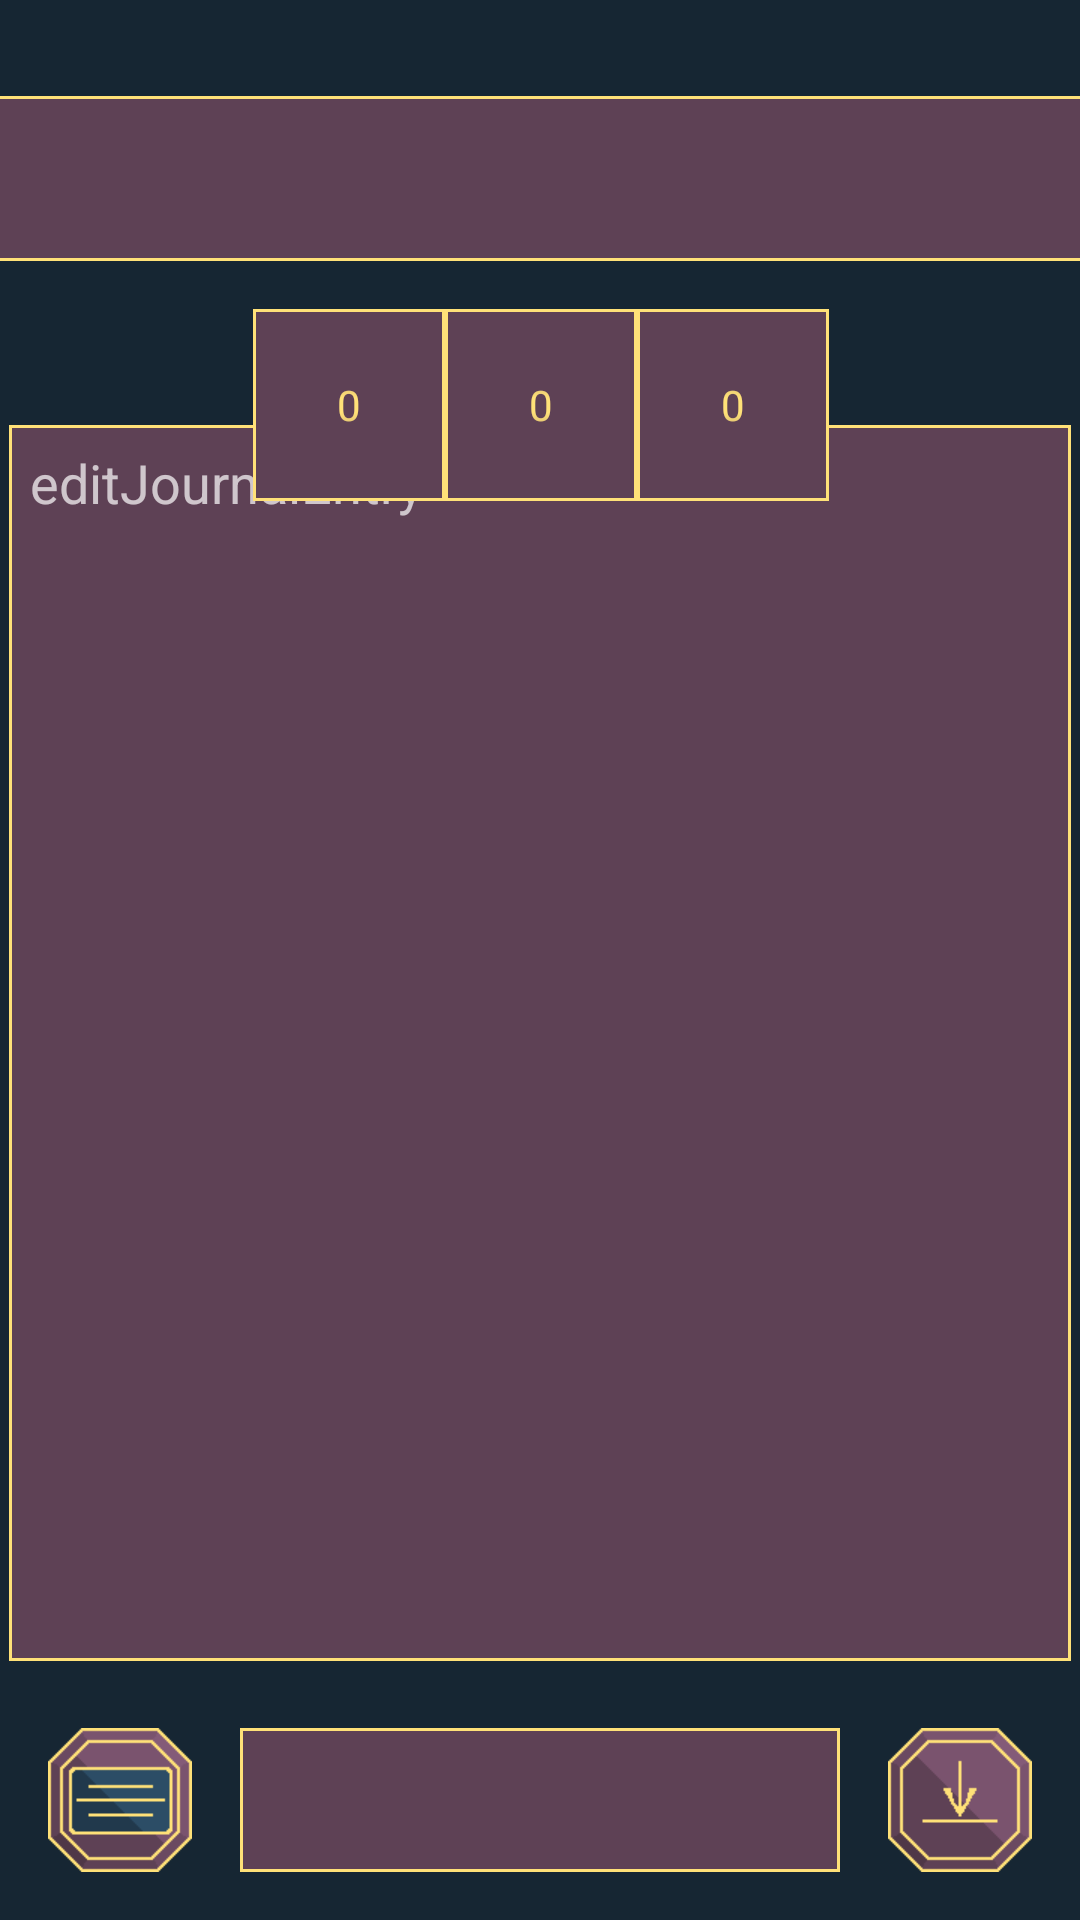

Icon click points for this 1080 × 1920 phone screenshot, format point (x, y):
save: point (960, 1800)
